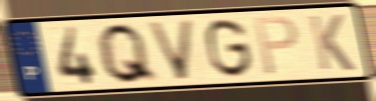4: (56, 24, 99, 87)
G: (204, 16, 255, 80)
K: (306, 13, 357, 73)
P: (252, 14, 301, 78)
Q: (95, 21, 161, 86)
V: (144, 19, 197, 83)
